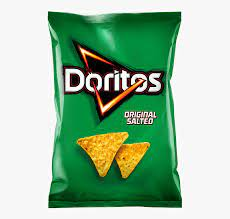Doritos: (41, 7, 187, 212)
